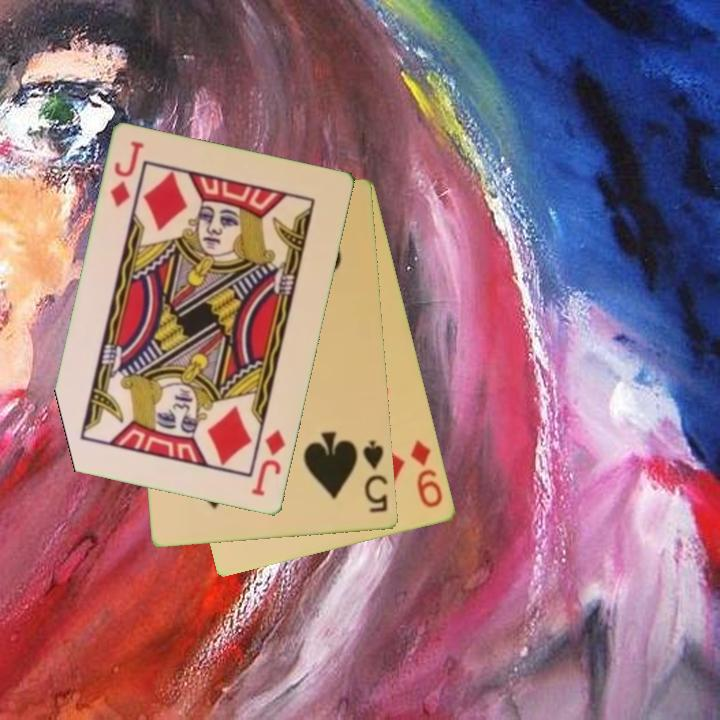5s: (360, 437, 391, 516)
9d: (407, 436, 446, 511)
Jd: (248, 426, 289, 500), (107, 138, 147, 211)
